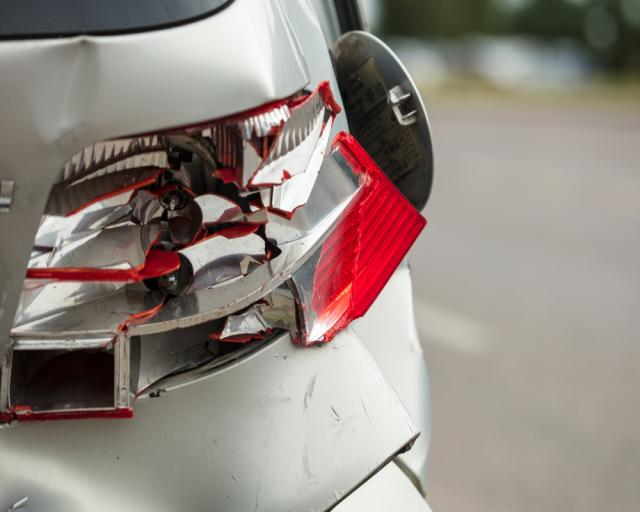dent: (25, 38, 100, 143)
lamp broken: (0, 82, 427, 425)
